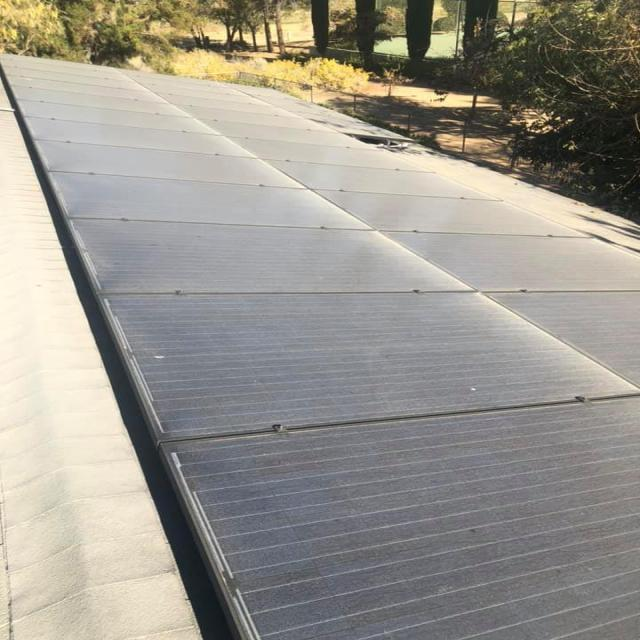dust-solar-panel: (0, 54, 640, 640)
